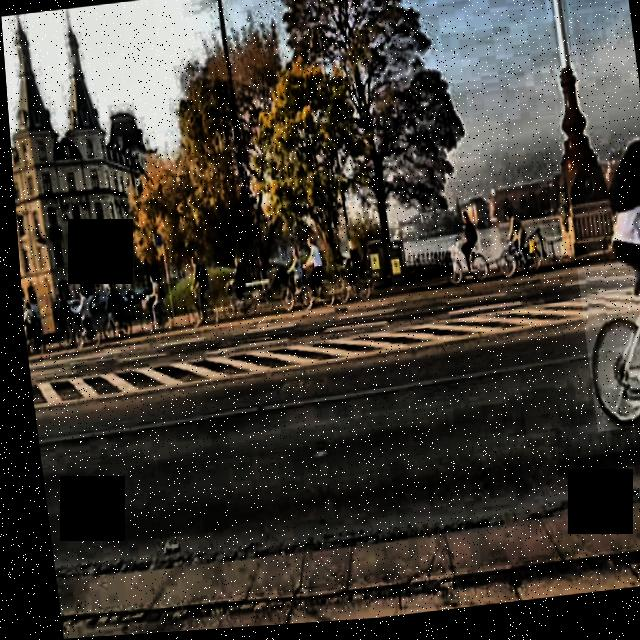bicycle: (573, 267, 640, 440)
